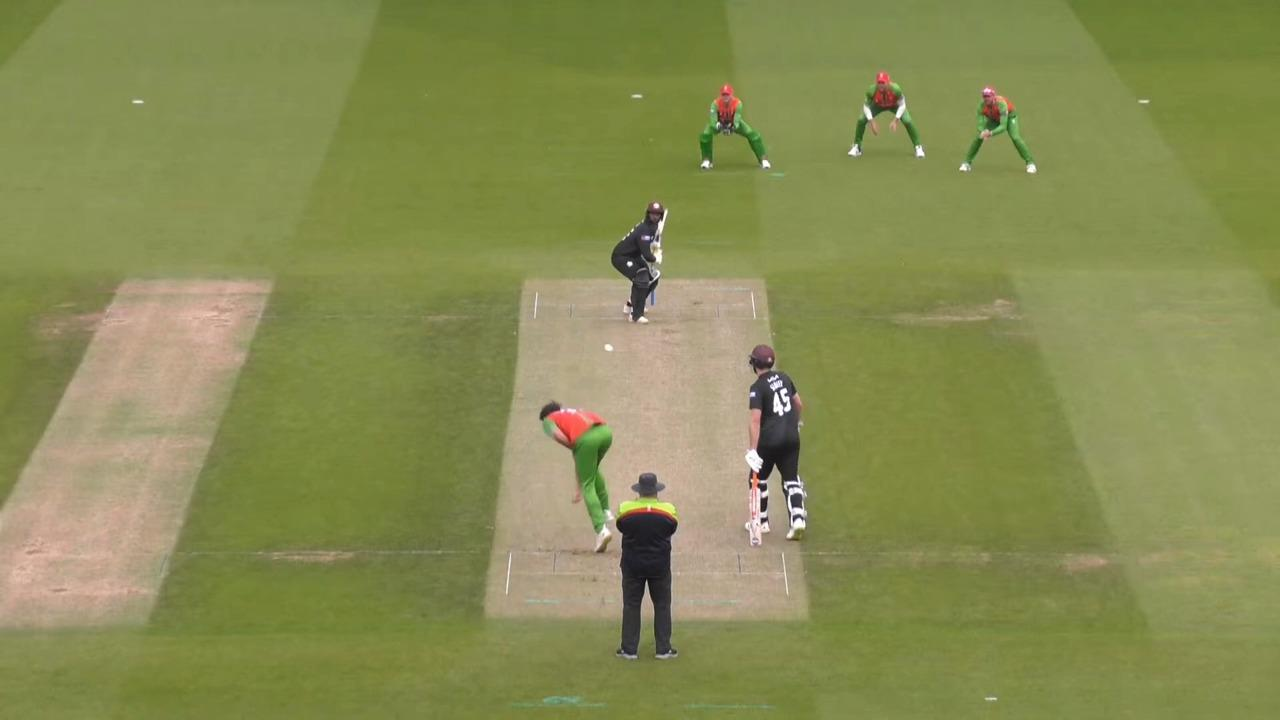sports ball: (604, 344, 612, 351)
